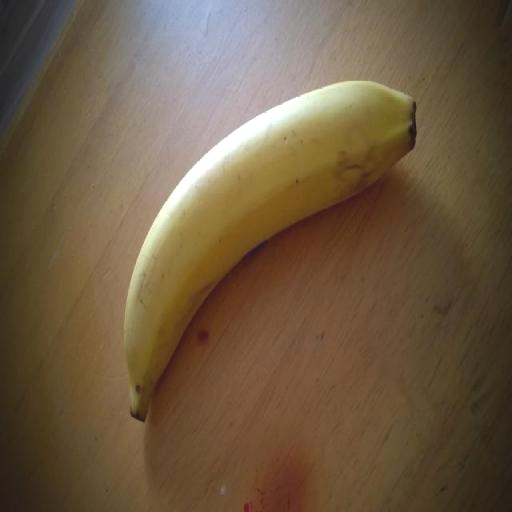fruit: (124, 82, 415, 420)
